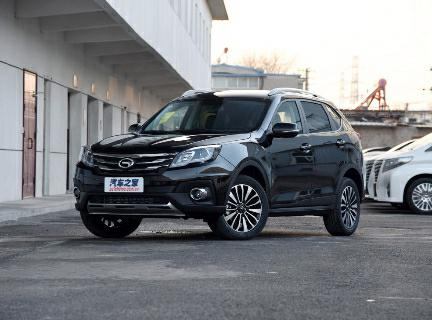广汽传祺-传祺GS5Super: (71, 87, 369, 241)
